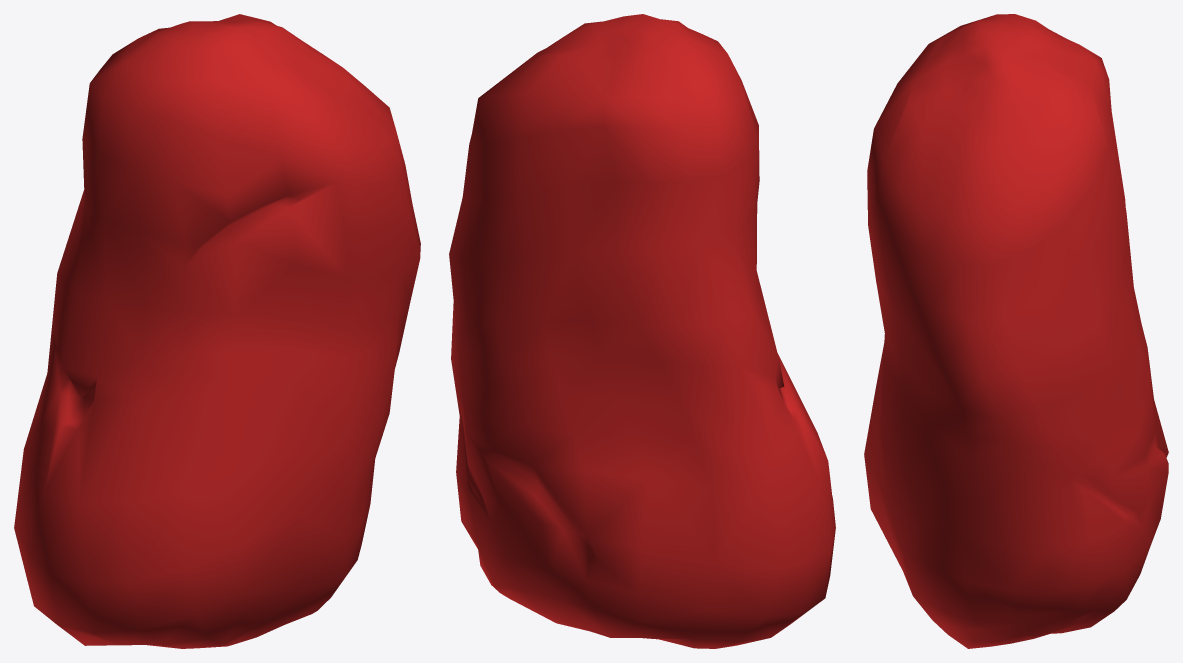
File: asteroid2.FBX
3 renders of one model, left to right at view 1: azimuth 30°, elevation 25°; view 2: azimuth 150°, elevation 25°; view 3: azimuth 270°, elevation 25°, orthographic. The views are drawn at different scales.
Visible parts, largest first — view 1: asteroid; view 2: asteroid; view 3: asteroid.
Part boxes in pixels (bbox=[...]): asteroid: bbox=[14, 14, 420, 648]; asteroid: bbox=[449, 14, 835, 648]; asteroid: bbox=[864, 14, 1168, 648].
Size of the model in its own units: 1919 by 2990 by 1388.
